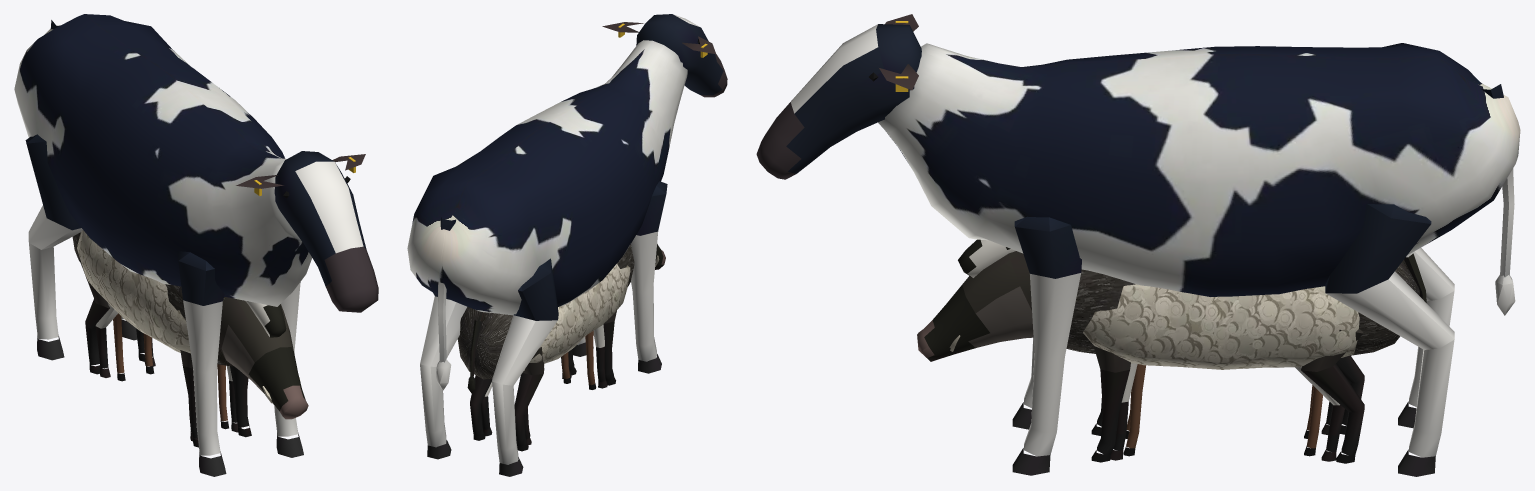
File: animals.glb
3 views of the same model, side by side, from view 1: azimuth 30°, elevation 25°; view 2: azimuth 150°, elevation 25°; view 3: azimuth 270°, elevation 25° (orthographic). The views are drawn at different scales.
Visible parts, largest first — view 1: cow_body, cow_head, cow_legFR, boar_head, cow_legRR, sheep_body, cow_legFL, boar_legRR, boar_legFL, sheep_head, sheep_legRR, boar_legFR (+3 smaller); view 2: cow_body, cow_legRR, cow_head, cow_legFR, sheep_body, cow_legRL, boar_body, boar_legRR, boar_legRL, boar_legFR, sheep_legFR, roe_deer_legFR (+1 smaller); view 3: cow_body, sheep_body, cow_legRL, cow_head, cow_legFL, boar_head, boar_body, boar_legRL, cow_legRR, boar_legFL, sheep_head, roe_deer_legFL (+2 smaller).
Part boxes in pixels (box(x1,y1,x2,y2)): cow_body: box(14, 14, 311, 306); cow_head: box(236, 151, 378, 312); cow_legFR: box(177, 251, 226, 476); boar_head: box(219, 297, 308, 419); cow_legRR: box(25, 134, 82, 360); sheep_body: box(77, 230, 190, 353); cow_legFL: box(274, 282, 303, 457); boar_legRR: box(79, 258, 109, 374); boar_legFL: box(230, 366, 251, 437); sheep_head: box(245, 300, 286, 337); sheep_legRR: box(95, 302, 117, 377); boar_legFR: box(180, 350, 198, 447); cow_body: box(407, 40, 687, 390); cow_legRR: box(492, 258, 558, 476); cow_head: box(602, 14, 727, 97); cow_legFR: box(631, 181, 667, 373); sheep_body: box(524, 264, 630, 370); cow_legRL: box(420, 293, 466, 459); boar_body: box(457, 244, 634, 393); boar_legRR: box(514, 347, 544, 451); boar_legRL: box(470, 375, 492, 440); boar_legFR: box(603, 311, 616, 385); sheep_legFR: box(593, 324, 607, 388); roe_deer_legFR: box(585, 331, 596, 389); cow_body: box(878, 43, 1520, 315); sheep_body: box(1083, 284, 1359, 369); cow_legRL: box(1325, 204, 1454, 476); cow_head: box(756, 14, 921, 179); cow_legFL: box(1012, 216, 1081, 475); boar_head: box(917, 251, 1033, 361); boar_body: box(1066, 253, 1426, 355); boar_legRL: box(1301, 329, 1364, 463); cow_legRR: box(1398, 248, 1454, 428); boar_legFL: box(1091, 346, 1130, 462); sheep_head: box(958, 239, 1015, 277); roe_deer_legFL: box(1123, 364, 1145, 456).
Size of the model in its own units: 0.7398 by 1.62 by 2.69.
Materials: 1 (1 with a texture image).
